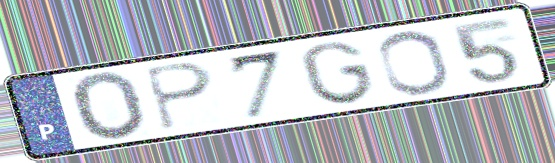5: (447, 14, 527, 87)
7: (223, 49, 290, 121)
G: (296, 38, 379, 107)
O: (68, 69, 152, 145), (374, 28, 455, 98)
P: (140, 60, 218, 134)
